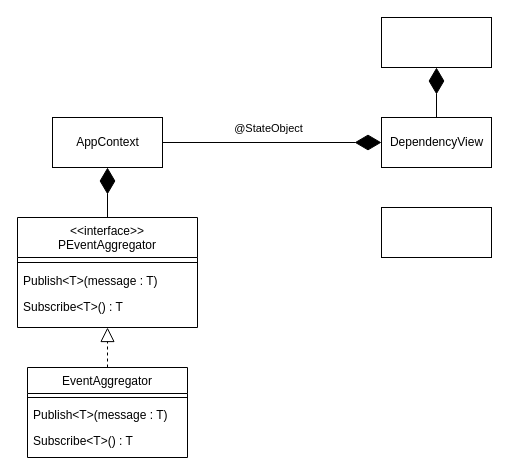
This 509x475 diagram has some shape labels left out. The centre of each missing label's shape, as x and y in pixels:
"App" goes at point 436,42.
"View" goes at point 436,232.
